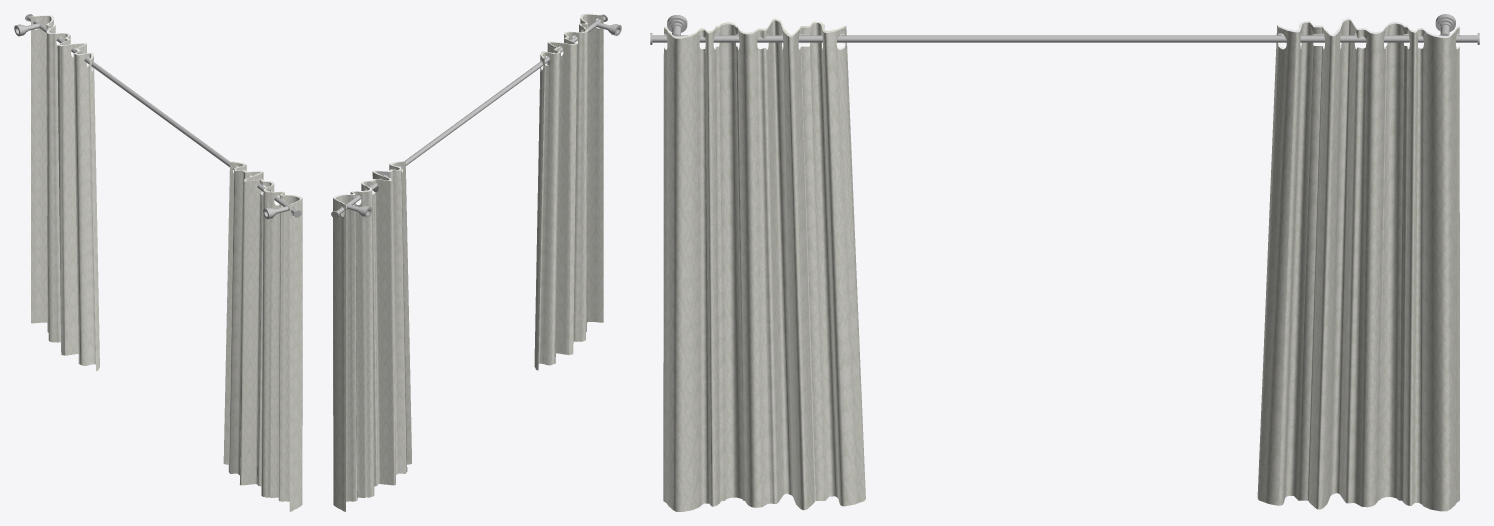
The picture shows the model from 3 angles, left to right: view 1: azimuth 30°, elevation 25°; view 2: azimuth 150°, elevation 25°; view 3: azimuth 270°, elevation 25°; orthographic projection. The views are drawn at different scales.
Visible parts, largest first — view 1: Mesh3_Group3_Model; view 2: Mesh3_Group3_Model; view 3: Mesh3_Group3_Model.
Part boxes in pixels (<box>): Mesh3_Group3_Model: <box>14,14,302,511</box>; Mesh3_Group3_Model: <box>331,14,621,511</box>; Mesh3_Group3_Model: <box>650,14,1479,511</box>.
Size of the model in its own units: 0.2728 by 2.2 by 3.49.
Materials: 4 (1 with a texture image).
